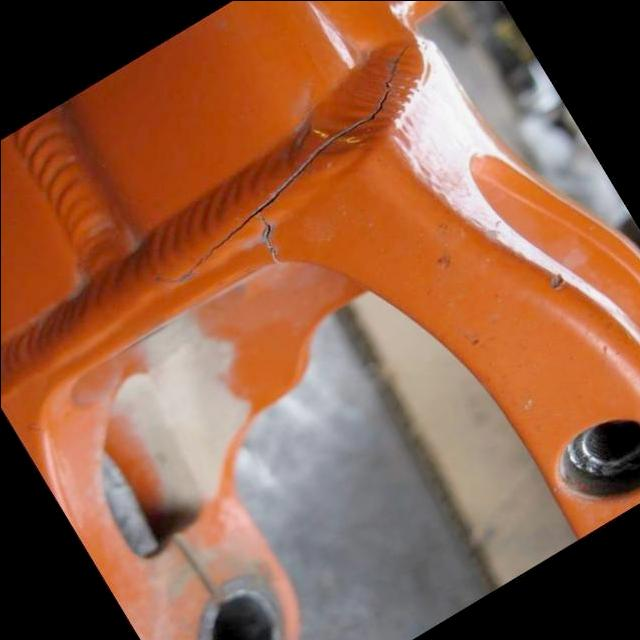defect: (150, 41, 424, 285)
